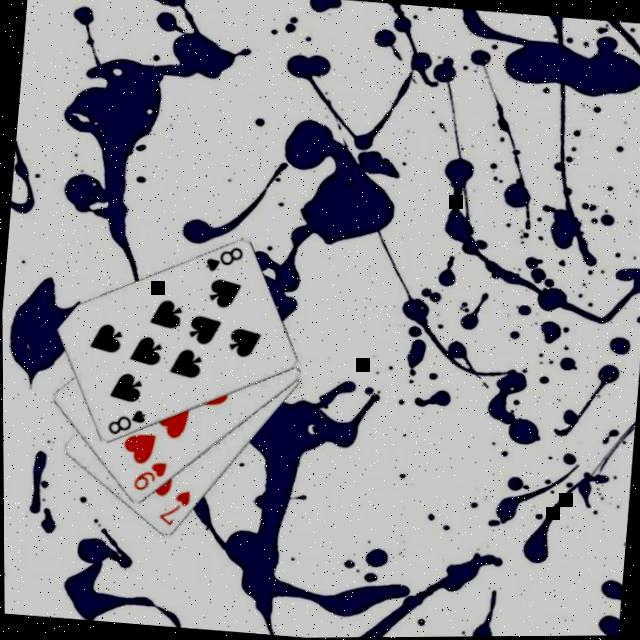7H: (155, 484, 195, 529)
8S: (105, 402, 150, 439), (202, 240, 248, 276)
9H: (131, 455, 172, 494)
